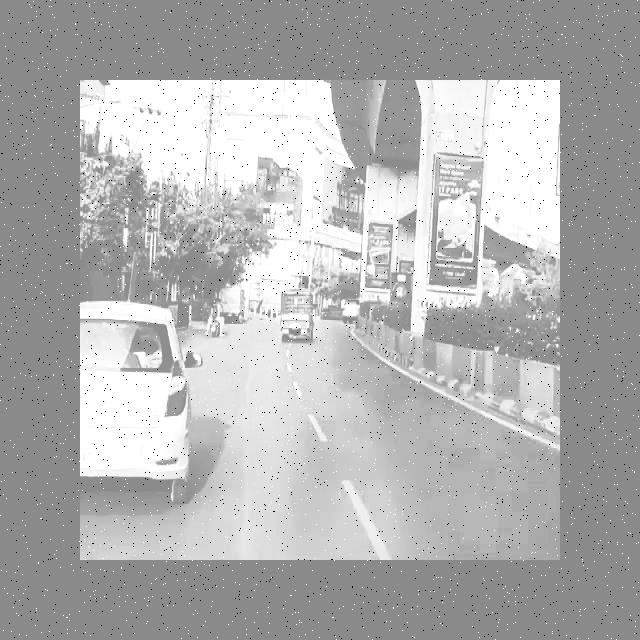Bike: (206, 296, 225, 340)
Car: (79, 288, 201, 528)
LCV: (276, 286, 318, 344)
